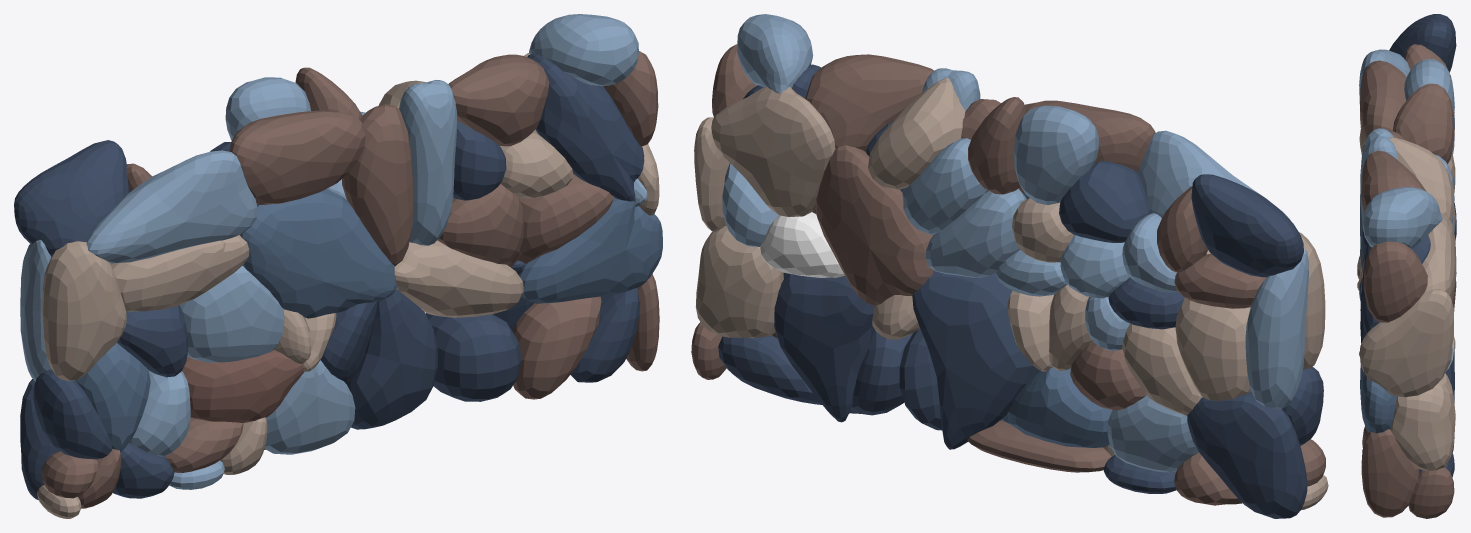
File: (1)wall.fbx
3 renders of one model, left to right at view 1: azimuth 30°, elevation 25°; view 2: azimuth 150°, elevation 25°; view 3: azimuth 270°, elevation 25°, orthographic. The views are drawn at different scales.
Parts seen in each view (by area): view 1: Cube.029_cell.082, Cube.029_cell.049, Cube.029_cell.061, Cube.029_cell.038, Cube.029_cell.041, Cube.029_cell.044, Cube.029_cell.003, Cube.029_cell.015, Cube.029_cell.021, Cube.029_cell.051, Cube.029_cell.018, Cube.029_cell.072 (+33 smaller); view 2: Cube.029_cell.042, Cube.029_cell.016, Cube.029_cell.035, Cube.029_cell.017, Cube.029_cell.008, Cube.029_cell.015, Cube.029_cell.031, Cube.029_cell.053, Cube.029_cell.080, Cube.029_cell.099, Cube.029_cell.022, Cube.029_cell.089 (+38 smaller); view 3: Cube.029_cell.039, Cube.029_cell.080, Cube.029_cell.062, Cube.029_cell.014, Cube.029_cell.059, Cube.029_cell.086, Cube.029_cell.061, Cube.029_cell.022, Cube.029_cell.015, Cube.029_cell.035, Cube.029_cell.031, Cube.029_cell.076 (+10 smaller).
Part boxes in pixels (<box>): Cube.029_cell.082: <box>240,189,397,318</box>; Cube.029_cell.049: <box>86,150,257,263</box>; Cube.029_cell.061: <box>229,110,365,204</box>; Cube.029_cell.038: <box>519,198,662,303</box>; Cube.029_cell.041: <box>42,241,126,380</box>; Cube.029_cell.044: <box>527,53,644,201</box>; Cube.029_cell.003: <box>348,289,437,429</box>; Cube.029_cell.015: <box>14,140,129,256</box>; Cube.029_cell.021: <box>342,104,413,266</box>; Cube.029_cell.051: <box>394,240,523,317</box>; Cube.029_cell.018: <box>399,80,457,245</box>; Cube.029_cell.072: <box>180,265,284,362</box>; Cube.029_cell.042: <box>912,271,1039,449</box>; Cube.029_cell.016: <box>815,145,934,305</box>; Cube.029_cell.035: <box>711,86,835,217</box>; Cube.029_cell.017: <box>1187,393,1307,518</box>; Cube.029_cell.008: <box>774,273,874,422</box>; Cube.029_cell.015: <box>1191,174,1303,277</box>; Cube.029_cell.031: <box>805,54,933,151</box>; Cube.029_cell.053: <box>1245,249,1308,409</box>; Cube.029_cell.080: <box>695,225,783,337</box>; Cube.029_cell.099: <box>1014,105,1098,204</box>; Cube.029_cell.022: <box>868,77,965,189</box>; Cube.029_cell.089: <box>1175,298,1250,400</box>; Cube.029_cell.039: <box>1359,289,1453,397</box>; Cube.029_cell.080: <box>1390,373,1455,471</box>; Cube.029_cell.062: <box>1363,241,1427,322</box>; Cube.029_cell.014: <box>1361,429,1419,517</box>; Cube.029_cell.059: <box>1362,187,1442,248</box>; Cube.029_cell.086: <box>1392,83,1454,163</box>; Cube.029_cell.061: <box>1360,60,1406,141</box>; Cube.029_cell.022: <box>1389,137,1453,221</box>; Cube.029_cell.015: <box>1389,14,1456,72</box>; Cube.029_cell.035: <box>1422,213,1456,301</box>; Cube.029_cell.031: <box>1361,150,1426,214</box>; Cube.029_cell.076: <box>1408,467,1454,518</box>.
Bounding box in the file's own units: 1538 × 873 × 253.
